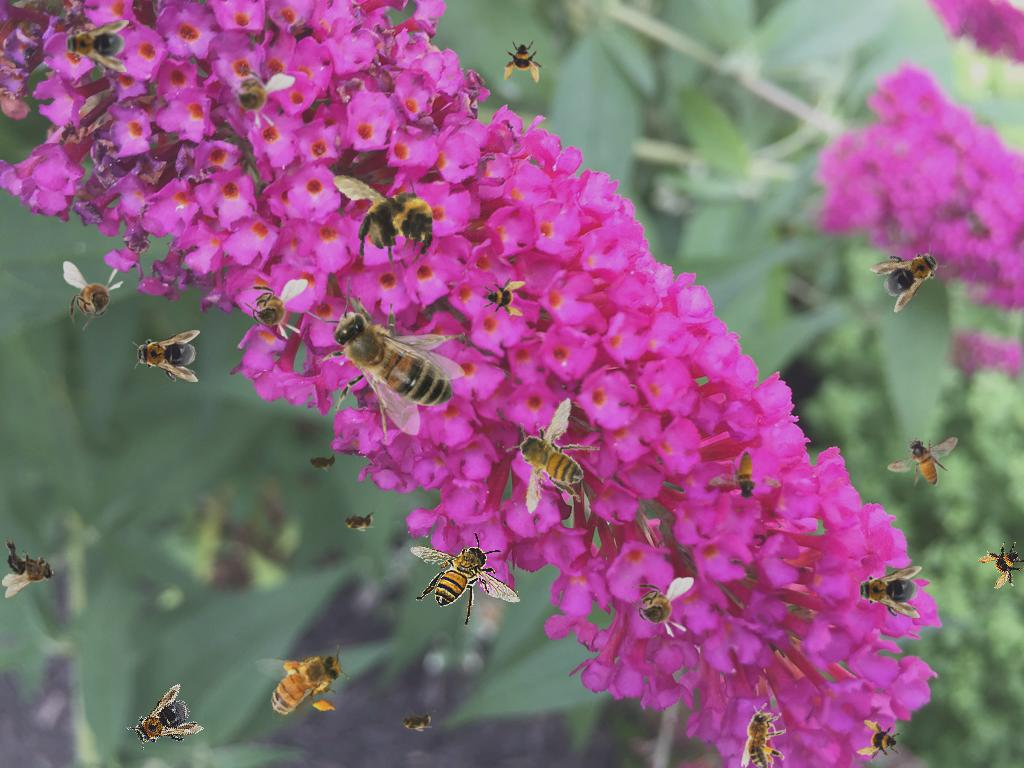Bee: (303, 277, 465, 444), (318, 153, 449, 278), (500, 394, 607, 516), (410, 532, 521, 626), (252, 644, 354, 723), (867, 232, 953, 314), (120, 683, 206, 763), (212, 56, 297, 136), (705, 439, 791, 516), (238, 279, 308, 340), (624, 577, 694, 638), (63, 261, 124, 331), (887, 436, 958, 486), (854, 566, 922, 618), (61, 20, 129, 72), (132, 330, 200, 382), (2, 536, 55, 598), (974, 534, 1024, 596), (741, 703, 786, 768), (855, 717, 905, 767), (482, 274, 526, 318), (502, 39, 546, 83), (396, 710, 436, 732), (302, 450, 342, 472), (338, 510, 378, 532)
